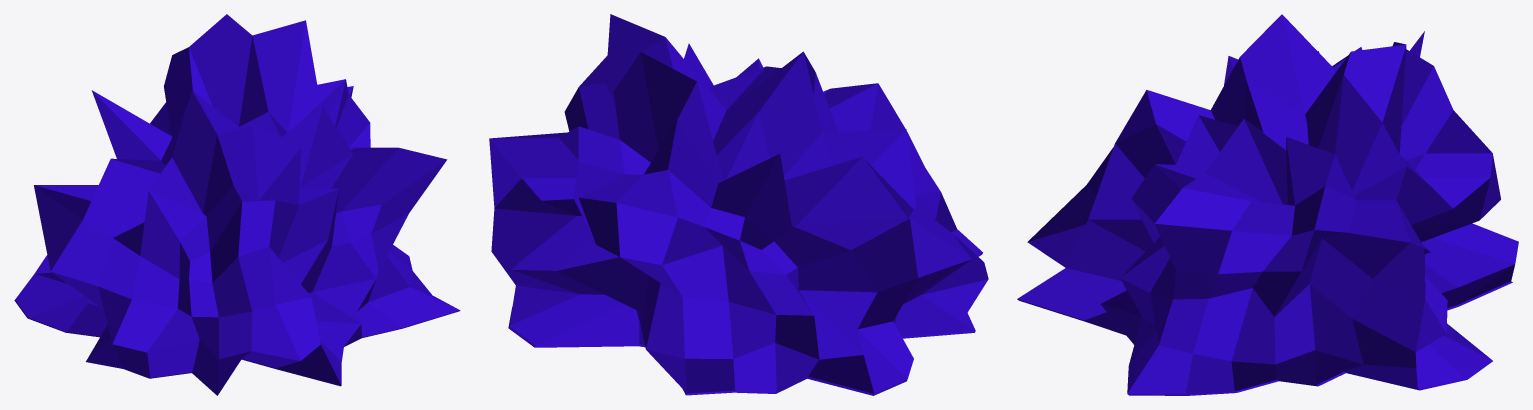
File: crystal.obj
The picture shows the model from 3 angles, left to right: view 1: azimuth 30°, elevation 25°; view 2: azimuth 150°, elevation 25°; view 3: azimuth 270°, elevation 25°; orthographic projection. The views are drawn at different scales.
Visible parts, largest first — view 1: Cube; view 2: Cube; view 3: Cube.
Boxes of the visible parts, left/top/right/bottom form: Cube: left=14, top=14, right=460, bottom=395; Cube: left=489, top=14, right=988, bottom=395; Cube: left=1017, top=14, right=1518, bottom=395.
Bounding box in the file's own units: 2.04 × 1.35 × 2.08.
